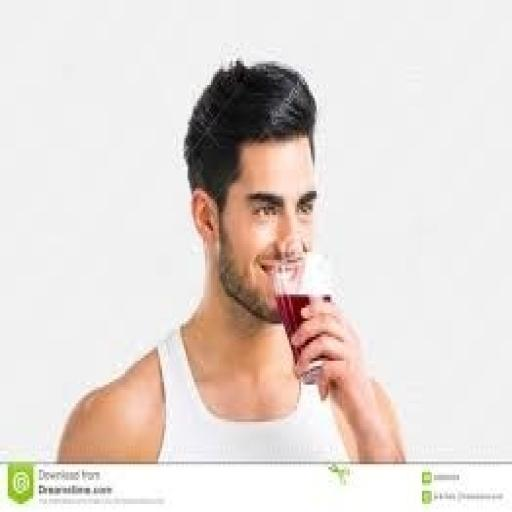drinking: (122, 23, 336, 385)
